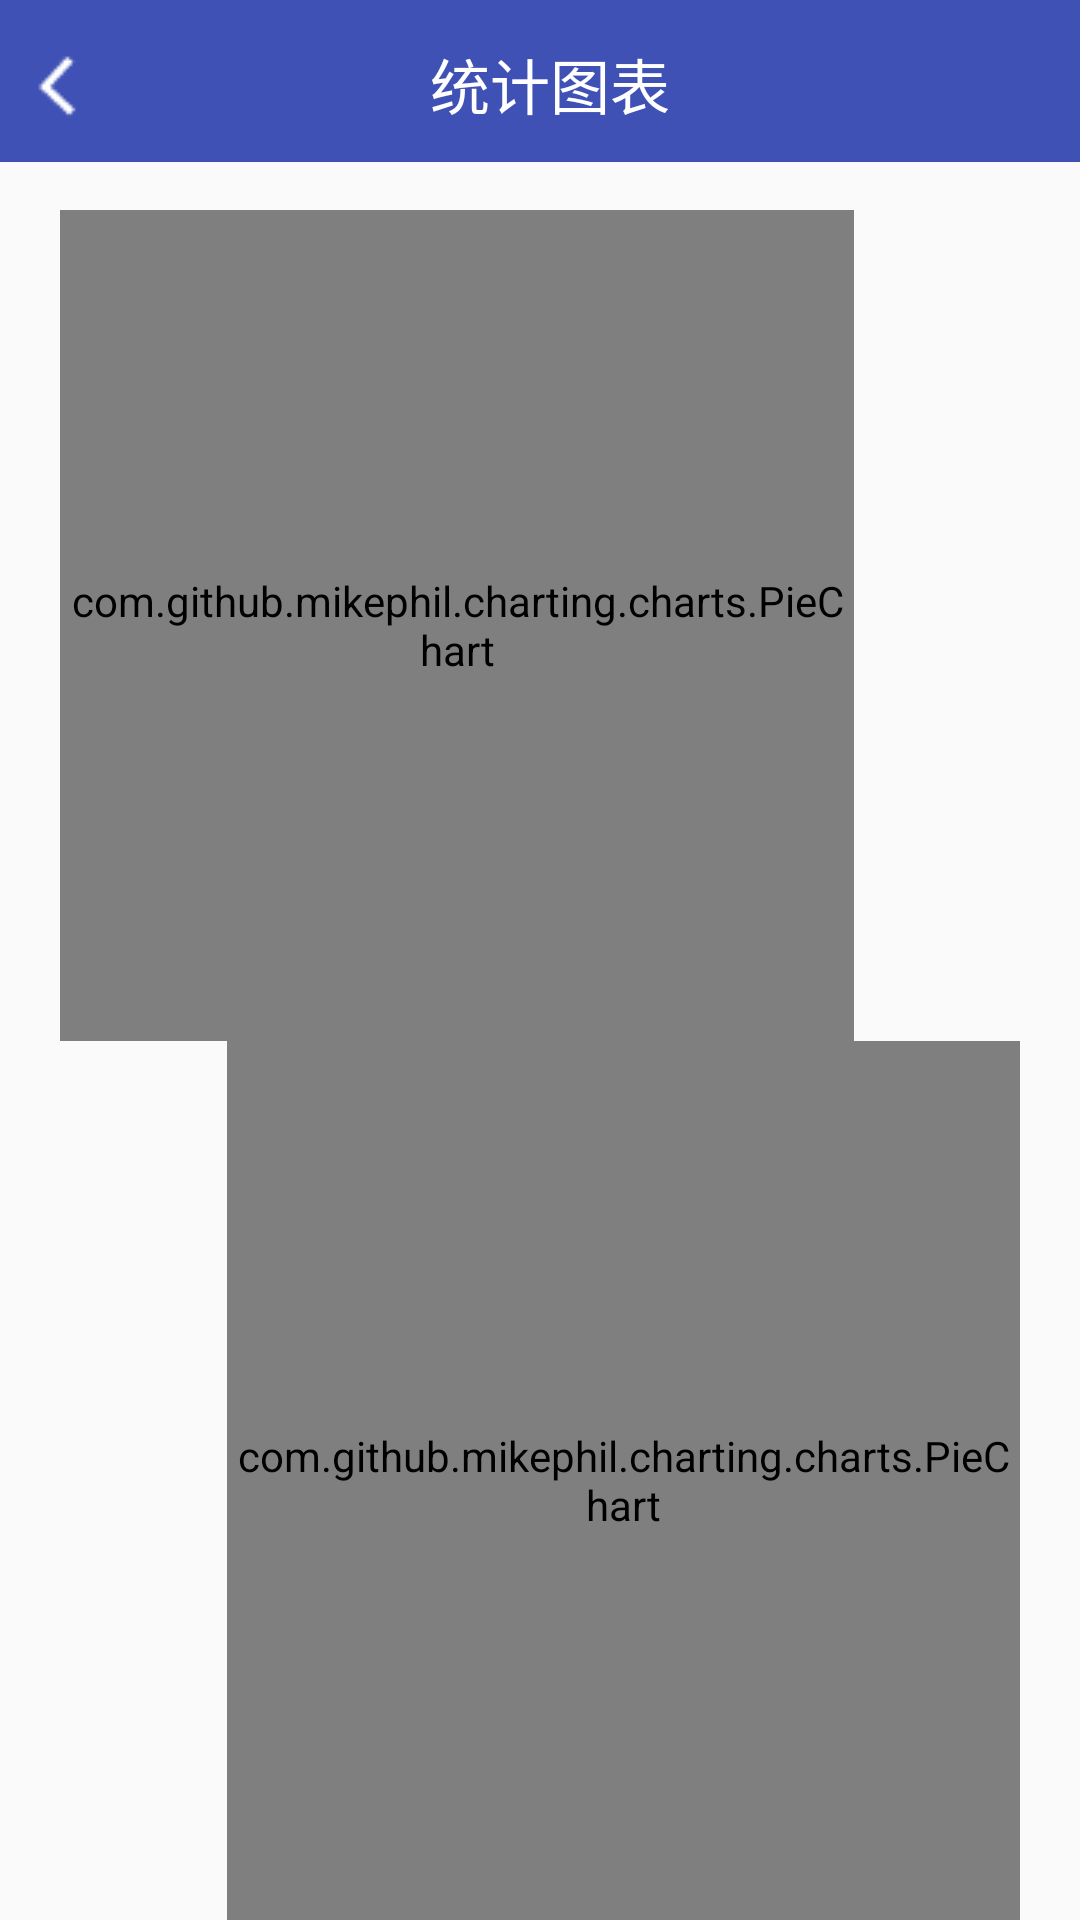

Icon bounding boxes for this 1080 x 1920 phone screenshot, format (x1, y1, x2, y2):
back: (39, 56, 76, 115)
